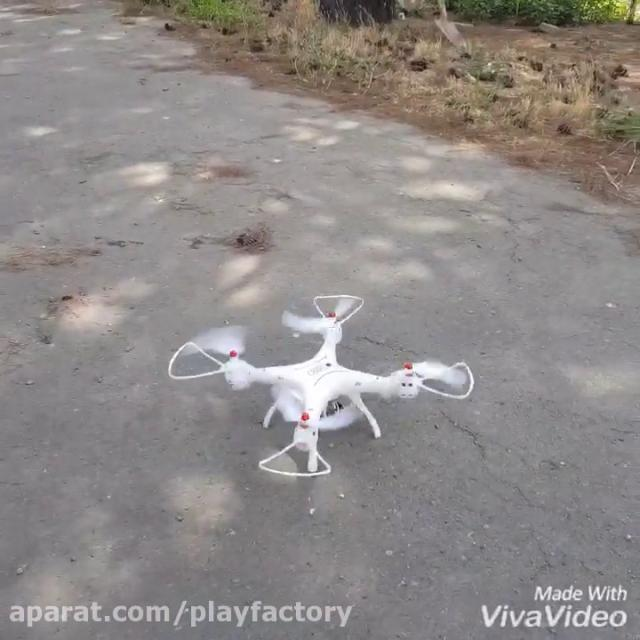drone: (162, 291, 476, 480)
